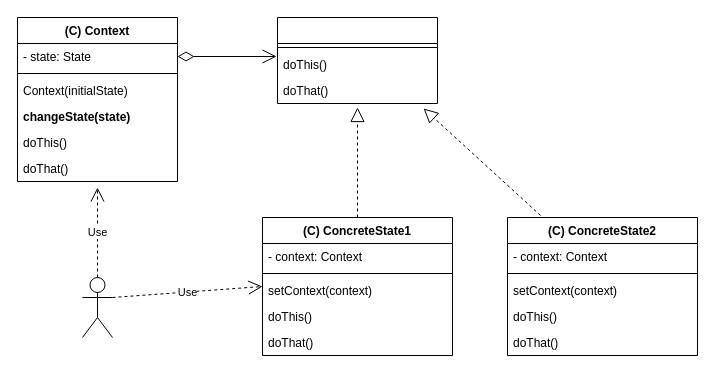
This 715x376 diagram has some shape labels left out. Here are the shapes that lost their labels. From the top down, the box of each, then its label:
(276, 16, 438, 104): (I) State
(82, 276, 112, 338): Client
